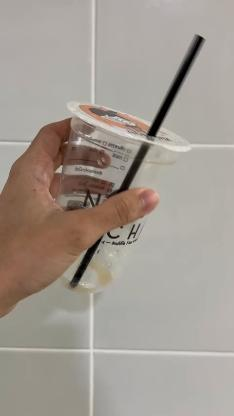Plastic Cup: (64, 100, 192, 296)
